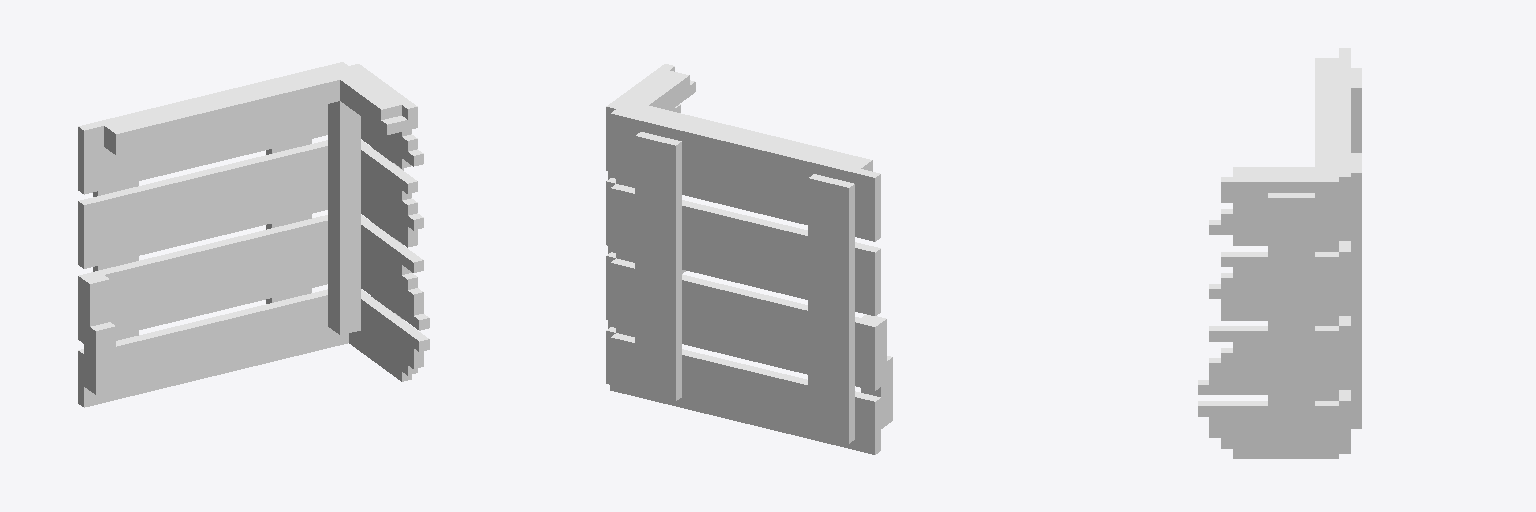
File: crate_broken-1-4.obj
3 views of the same model, side by side, from view 1: azimuth 30°, elevation 25°; view 2: azimuth 150°, elevation 25°; view 3: azimuth 270°, elevation 25° (orthographic).
Parts seen in each view (by area): view 1: 4; view 2: 4; view 3: 4.
Part boxes in pixels (bbox=[...]): 4: bbox=[78, 62, 429, 407]; 4: bbox=[606, 64, 892, 454]; 4: bbox=[1198, 48, 1361, 458].
Bounding box in the file's own units: 2.8 × 2.6 × 1.4.